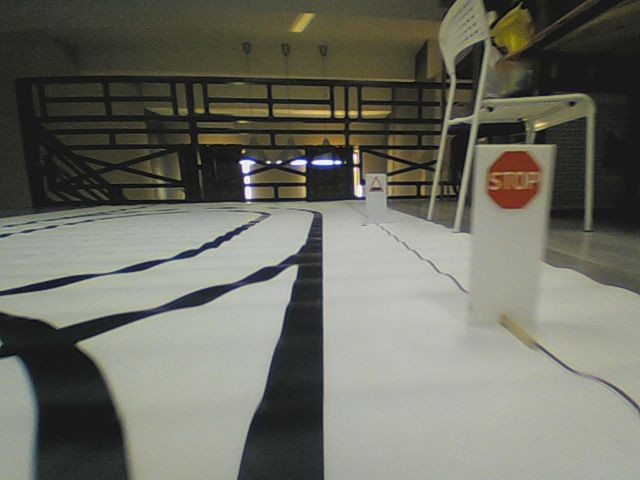Nerov: (368, 176, 383, 193)
Stop: (486, 150, 541, 209)
